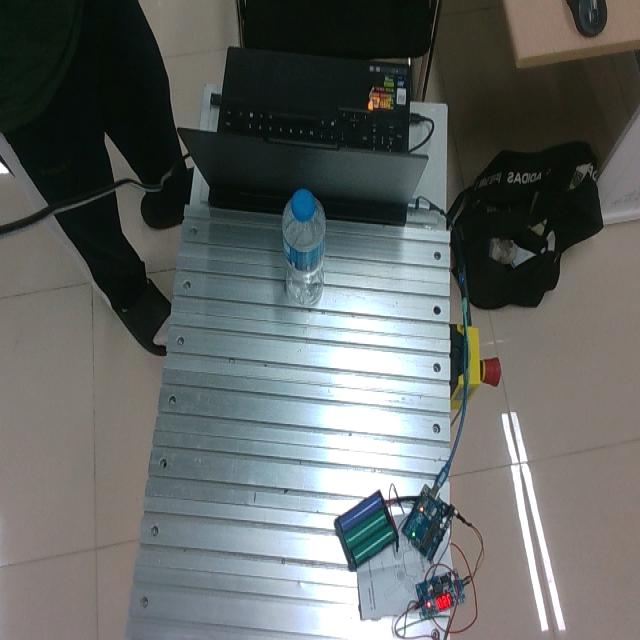lavie: (281, 190, 326, 306)
